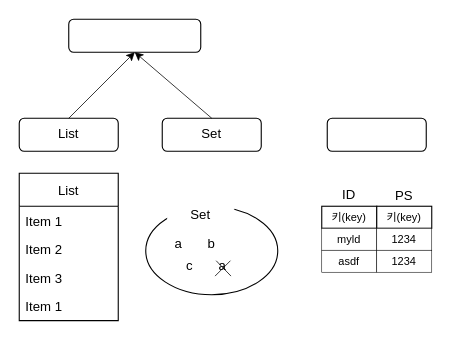
The diagram is 451 pixels wide and 343 high, and some of its shapes have lost their labels. Each missing label, with the centre of its shape:
"Collection" belongs at point (134, 35).
"Map" belongs at point (376, 134).
